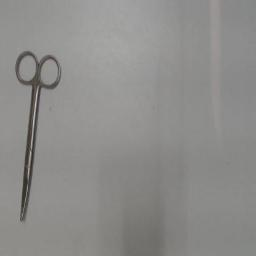Curved Mayo Scissors: (13, 48, 65, 228)
